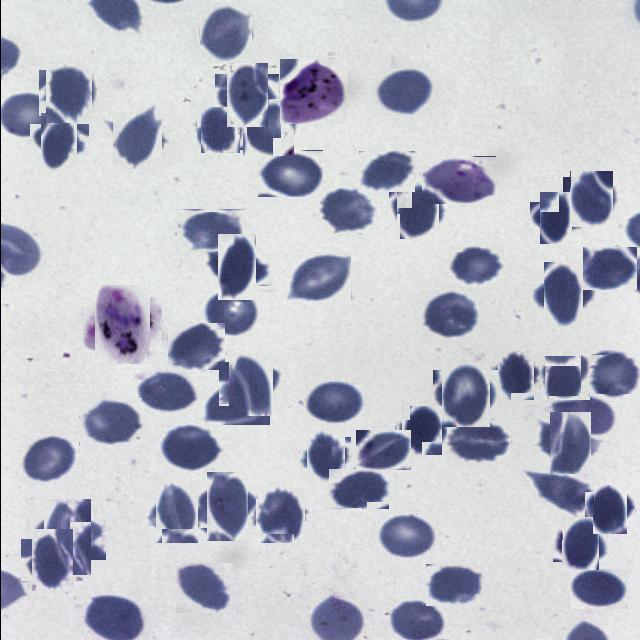difficult: (278, 58, 346, 124)
red blood cell: (36, 506, 98, 568), (286, 252, 350, 303), (437, 366, 494, 422), (198, 479, 254, 535), (528, 468, 593, 516), (256, 150, 322, 197), (198, 5, 253, 61), (109, 110, 164, 166), (158, 424, 222, 472), (240, 100, 294, 156), (78, 398, 141, 445), (223, 357, 277, 411), (375, 512, 435, 560), (536, 268, 590, 321), (201, 383, 269, 425), (176, 563, 233, 613), (176, 208, 242, 251), (374, 68, 434, 115), (253, 488, 306, 541), (42, 66, 94, 120), (210, 240, 262, 294), (420, 290, 478, 338), (220, 69, 272, 122), (134, 371, 198, 414), (203, 289, 260, 337), (20, 434, 77, 482), (445, 420, 510, 462), (548, 396, 616, 436), (150, 486, 202, 538), (25, 534, 77, 586), (544, 416, 596, 468), (168, 323, 225, 370), (303, 380, 363, 424), (318, 188, 376, 233), (327, 468, 388, 509), (392, 185, 442, 235), (566, 174, 616, 224), (581, 246, 636, 290), (579, 354, 639, 394), (425, 564, 482, 606), (358, 151, 414, 192), (569, 570, 627, 609), (35, 118, 82, 166), (448, 246, 503, 286), (355, 430, 410, 470), (556, 520, 602, 566), (302, 434, 347, 479), (398, 408, 444, 452), (542, 358, 586, 403), (534, 197, 577, 240), (198, 108, 240, 152), (493, 354, 537, 396), (588, 488, 630, 530)
ring: (420, 156, 495, 204)
trophozoite: (88, 292, 155, 358)
